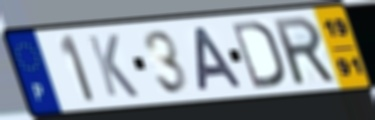1: (58, 33, 99, 104)
3: (142, 29, 190, 95)
A: (191, 25, 246, 93)
D: (229, 19, 287, 91)
K: (85, 32, 142, 99)
R: (270, 13, 339, 88)
